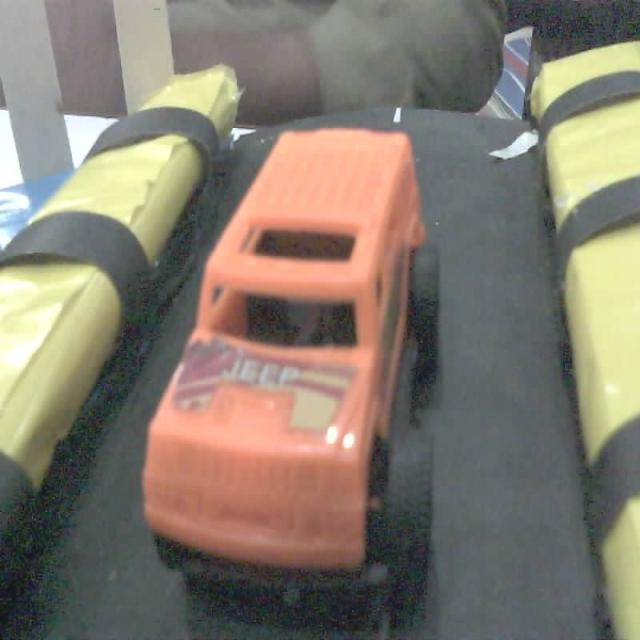OneCar: (105, 57, 492, 616)
